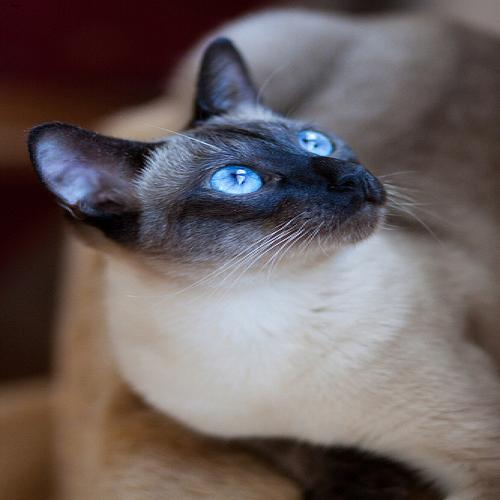siamese: (7, 33, 439, 300)
